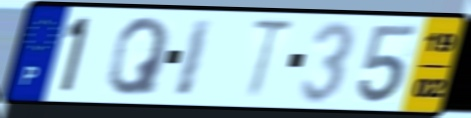1: (58, 15, 92, 94)
3: (298, 16, 360, 107)
5: (355, 22, 420, 105)
I: (172, 16, 216, 99)
Q: (105, 15, 173, 98)
T: (242, 17, 299, 104)
